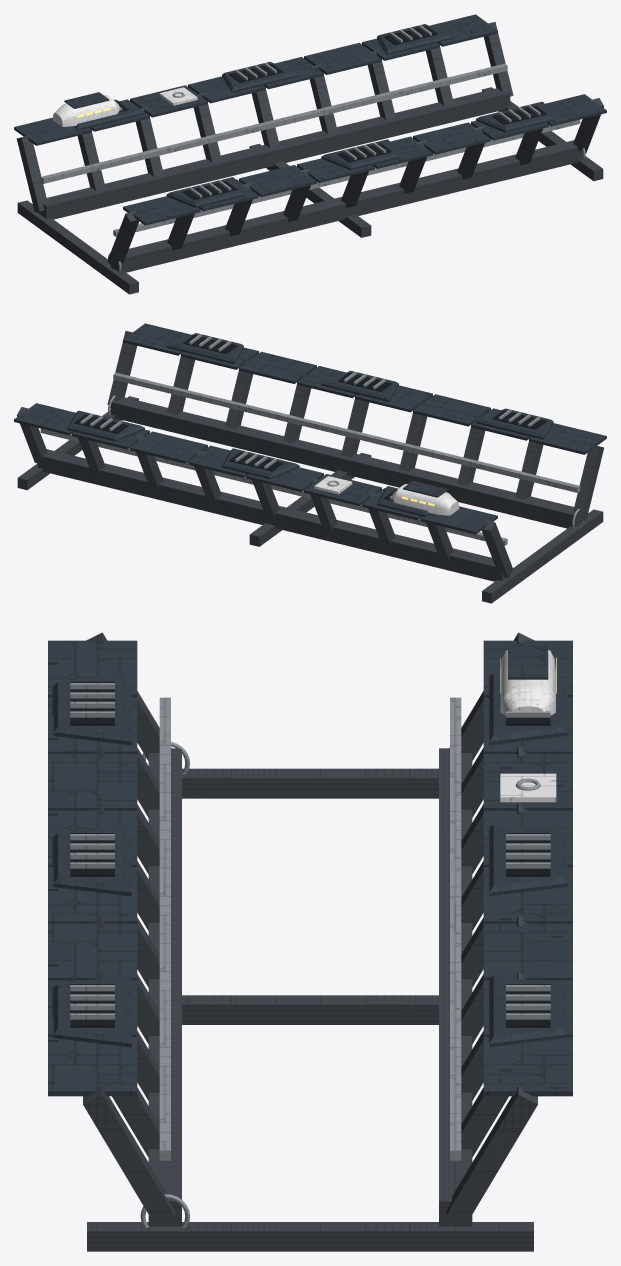
Rendered from large_launch_trench_bank_lod2.glb.
3 views of the same model, one above another, from view 1: azimuth 30°, elevation 25°; view 2: azimuth 150°, elevation 25°; view 3: azimuth 270°, elevation 25° (orthographic). The views are drawn at different scales.
Parts seen in each view (by area): view 1: LOD2_Mechanical, LOD2_Hull, LOD2_BrushedMetal, LOD2_MechanicalDark, LOD2_Armor; view 2: LOD2_Mechanical, LOD2_Hull, LOD2_BrushedMetal, LOD2_MechanicalDark, LOD2_Armor; view 3: LOD2_Mechanical, LOD2_Hull, LOD2_BrushedMetal, LOD2_MechanicalDark, LOD2_Armor.
Boxes of the visible parts, x1,y1,x2,y2 form: LOD2_Mechanical: [17, 22, 604, 294]; LOD2_Hull: [14, 14, 606, 225]; LOD2_BrushedMetal: [40, 25, 585, 272]; LOD2_MechanicalDark: [116, 26, 546, 200]; LOD2_Armor: [53, 87, 197, 126]; LOD2_Mechanical: [16, 331, 603, 603]; LOD2_Hull: [14, 323, 606, 534]; LOD2_BrushedMetal: [40, 334, 584, 545]; LOD2_MechanicalDark: [74, 335, 546, 501]; LOD2_Armor: [314, 476, 459, 515]; LOD2_Mechanical: [83, 632, 537, 1251]; LOD2_Hull: [48, 640, 572, 1096]; LOD2_BrushedMetal: [70, 683, 550, 1227]; LOD2_MechanicalDark: [70, 681, 550, 1027]; LOD2_Armor: [500, 650, 556, 802].
Bounding box in the file's own units: 98 × 19.24 × 47.
Materials: 6 (5 with a texture image).
